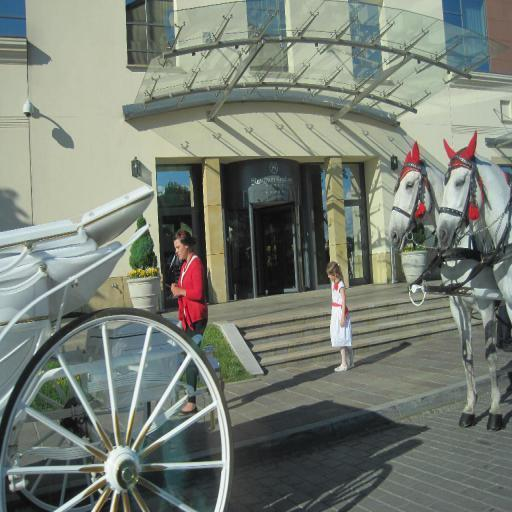horse: (386, 136, 500, 428), (433, 125, 512, 329)
